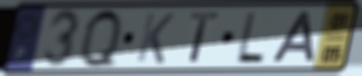3: (40, 7, 83, 72)
A: (268, 10, 317, 65)
K: (134, 11, 177, 67)
L: (232, 10, 268, 66)
Q: (79, 6, 124, 71)
T: (188, 11, 222, 66)
